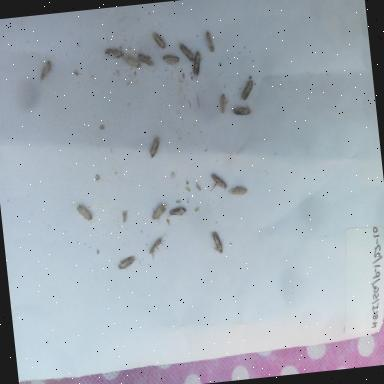pbw: (189, 48, 207, 82), (73, 198, 94, 226), (36, 54, 56, 83), (176, 37, 198, 63), (148, 236, 168, 263), (146, 134, 164, 163), (207, 170, 230, 192), (163, 202, 188, 222), (116, 254, 141, 274), (238, 78, 258, 103), (209, 228, 226, 257), (232, 101, 256, 121), (150, 203, 169, 227), (204, 28, 219, 56), (103, 45, 126, 62), (226, 183, 250, 199), (123, 54, 142, 74), (151, 30, 168, 52), (218, 91, 231, 119), (160, 52, 182, 68), (137, 51, 155, 70), (120, 208, 130, 225)
